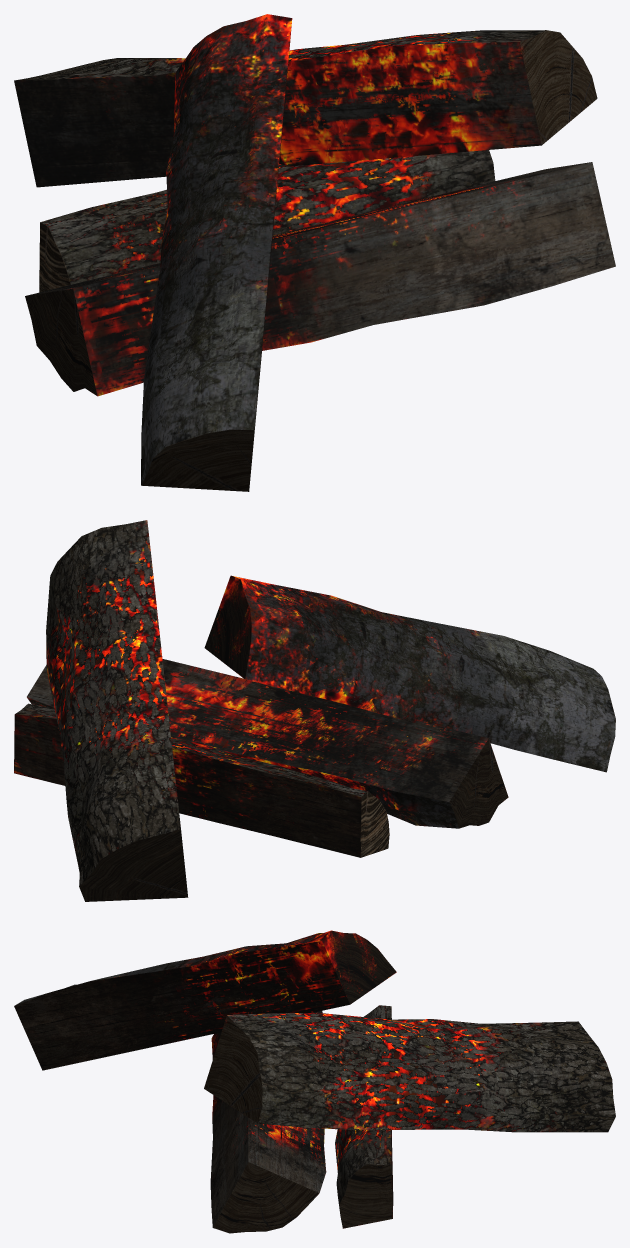
File: SM_firewoodSet_A.fbx
3 renders of one model, top to bottom at view 1: azimuth 30°, elevation 25°; view 2: azimuth 150°, elevation 25°; view 3: azimuth 270°, elevation 25°, orthographic. The views are drawn at different scales.
Parts seen in each view (by area): view 1: SM_firewoodSet_A_LOD0; view 2: SM_firewoodSet_A_LOD0; view 3: SM_firewoodSet_A_LOD0.
Part boxes in pixels (x1,y1,x2,y2): SM_firewoodSet_A_LOD0: [14, 14, 615, 491]; SM_firewoodSet_A_LOD0: [14, 520, 615, 901]; SM_firewoodSet_A_LOD0: [14, 930, 615, 1233].
Size of the model in its own units: 70.69 by 85.59 by 34.09.
1 material, 1 textured.
